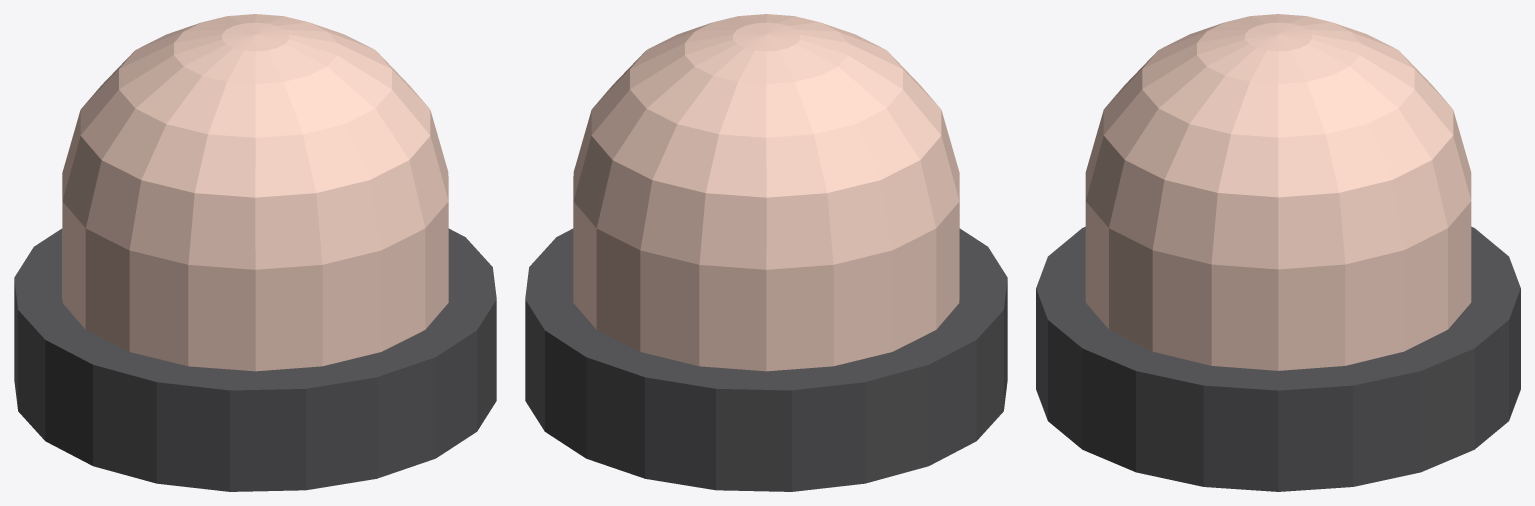
Rendered from vge_vacuum_warning_light.obj.
3 renders of one model, left to right at view 1: azimuth 30°, elevation 25°; view 2: azimuth 150°, elevation 25°; view 3: azimuth 270°, elevation 25°, orthographic.
Parts seen in each view (by area): view 1: vge_vacuum_warning_light_1, vge_vacuum_warning_light_0; view 2: vge_vacuum_warning_light_1, vge_vacuum_warning_light_0; view 3: vge_vacuum_warning_light_1, vge_vacuum_warning_light_0.
Part boxes in pixels (box(x1,y1,x2,y2)): vge_vacuum_warning_light_1: box(62, 14, 448, 371); vge_vacuum_warning_light_0: box(14, 228, 496, 491); vge_vacuum_warning_light_1: box(573, 14, 959, 371); vge_vacuum_warning_light_0: box(525, 228, 1007, 491); vge_vacuum_warning_light_1: box(1085, 14, 1471, 370); vge_vacuum_warning_light_0: box(1036, 226, 1520, 491).
Bounding box in the file's own units: 0.52 × 0.42 × 0.52.
